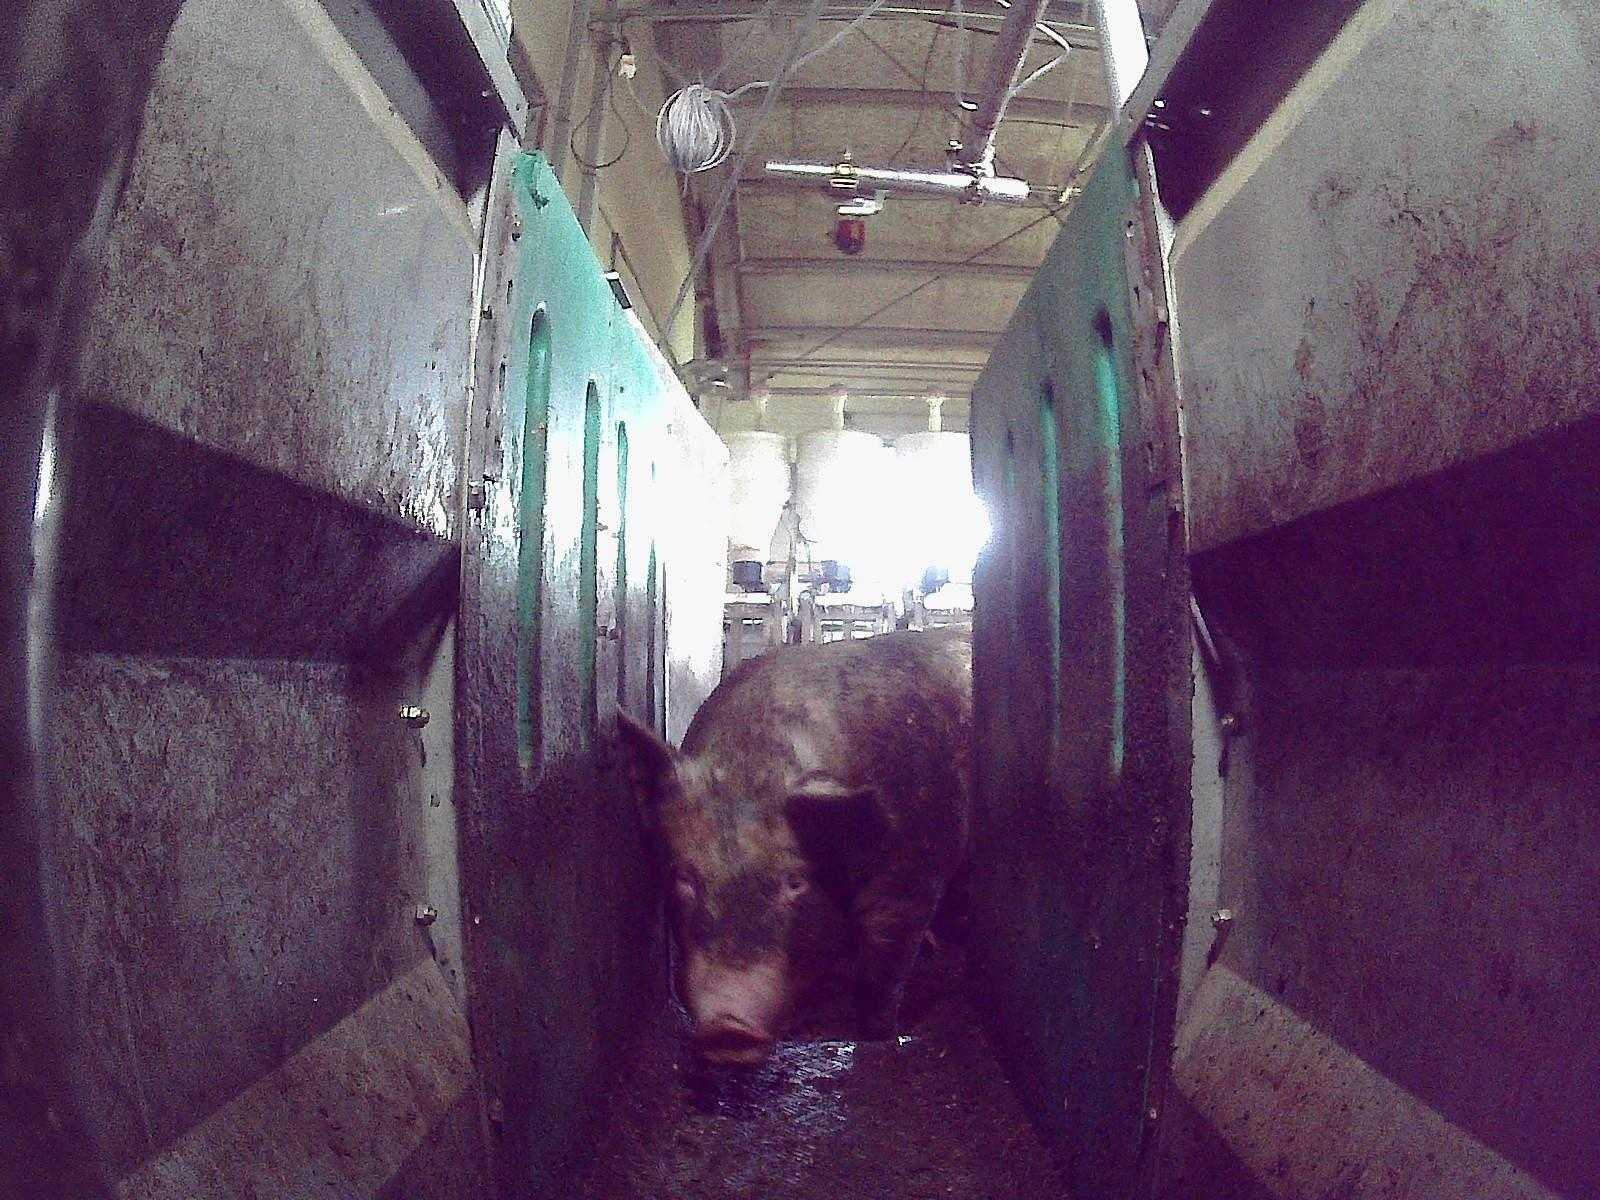Face: (652, 776, 839, 1060)
